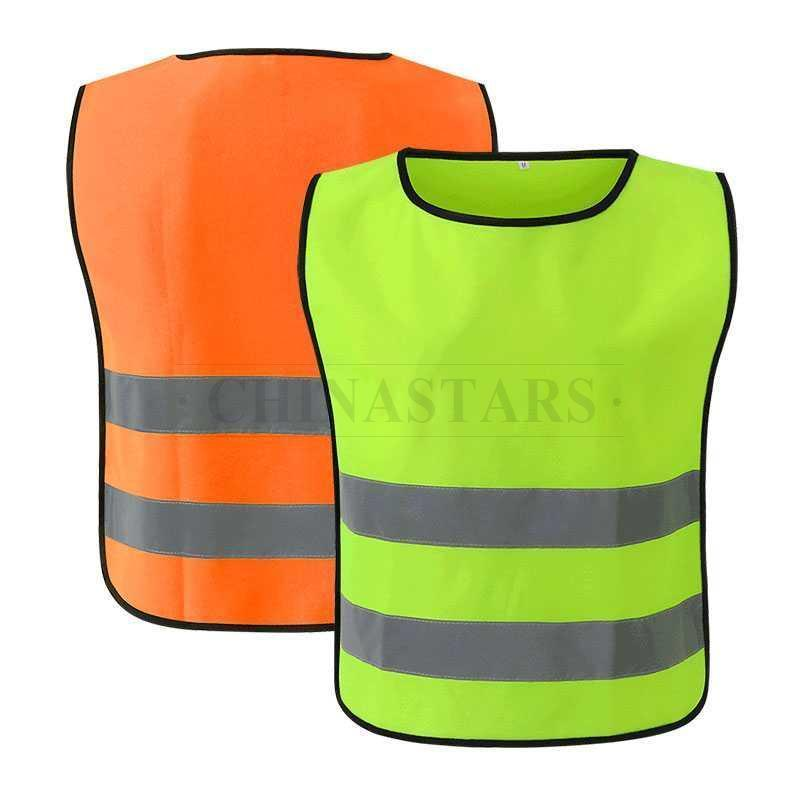vest: (301, 139, 738, 748), (68, 50, 498, 637)
